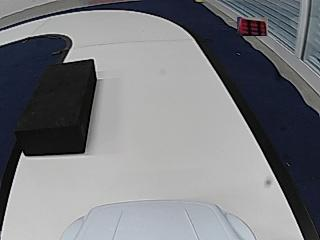block: (19, 58, 95, 156)
